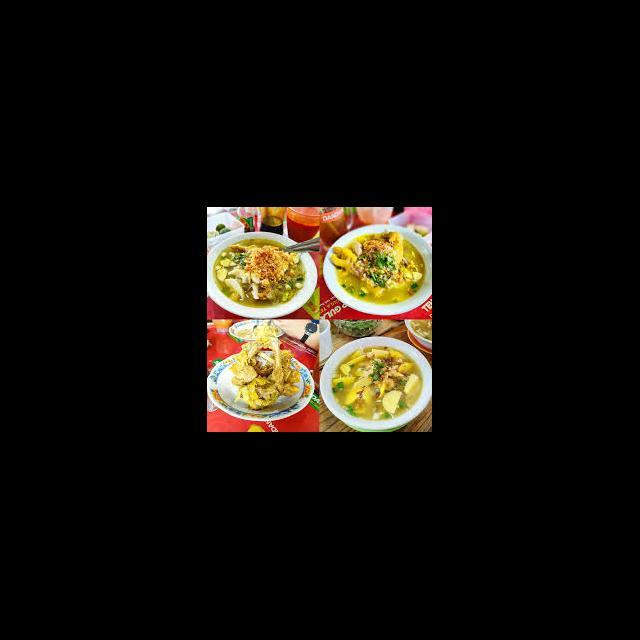Soto: (322, 335, 434, 429), (207, 230, 313, 316), (344, 225, 428, 323)
